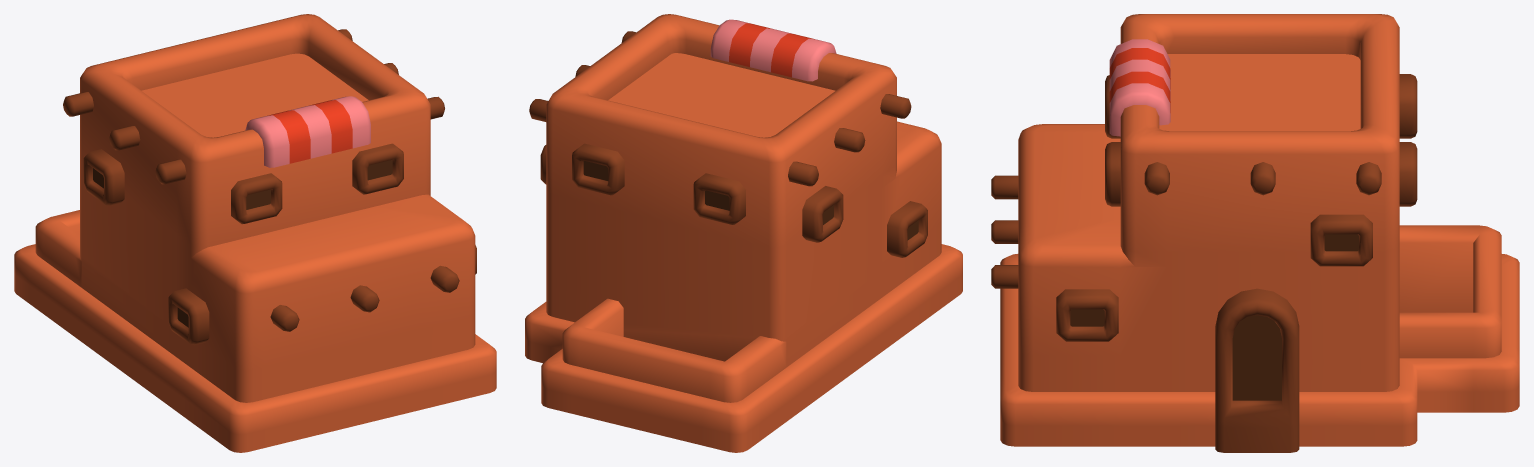
Rendered from house_large.glb.
3 renders of one model, left to right at view 1: azimuth 30°, elevation 25°; view 2: azimuth 150°, elevation 25°; view 3: azimuth 270°, elevation 25°, orthographic. The views are drawn at different scales.
Visible parts, largest first — view 1: house_large; view 2: house_large; view 3: house_large.
Boxes of the visible parts, x1,y1,x2,y2 form: house_large: (14,14,496,452); house_large: (525,14,962,452); house_large: (991,14,1519,452).
Bounding box in the file's own units: 5.03 × 4.51 × 7.04.
1 material, 1 textured.
